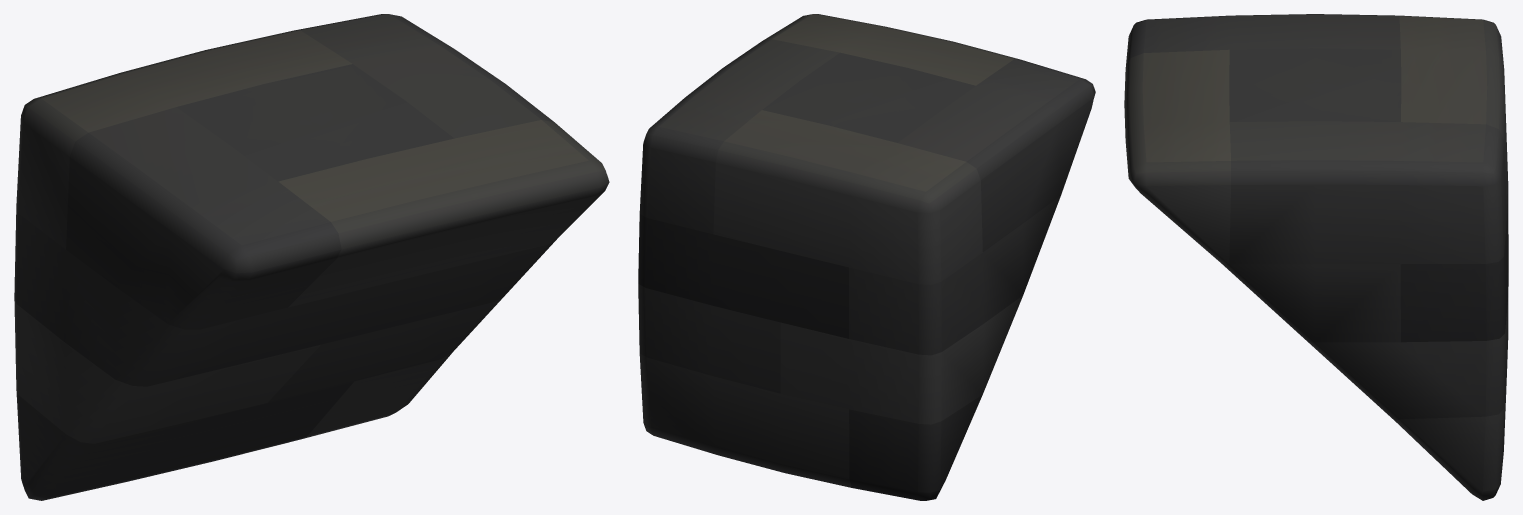
The model's file is DarkStone_4x4_SlopeUnder.fbx.
3 views of the same model, side by side, from view 1: azimuth 30°, elevation 25°; view 2: azimuth 150°, elevation 25°; view 3: azimuth 270°, elevation 25° (orthographic). The views are drawn at different scales.
Parts seen in each view (by area): view 1: DarkStone_4x4_SlopeUnder_LOD0; view 2: DarkStone_4x4_SlopeUnder_LOD0; view 3: DarkStone_4x4_SlopeUnder_LOD0.
Part boxes in pixels (x1=…): DarkStone_4x4_SlopeUnder_LOD0: x1=14, y1=14, x2=609, y2=500; DarkStone_4x4_SlopeUnder_LOD0: x1=638, y1=14, x2=1095, y2=500; DarkStone_4x4_SlopeUnder_LOD0: x1=1124, y1=14, x2=1508, y2=500.
Size of what is drawn, in the model's own units: 1.09 by 1.08 by 1.08.
